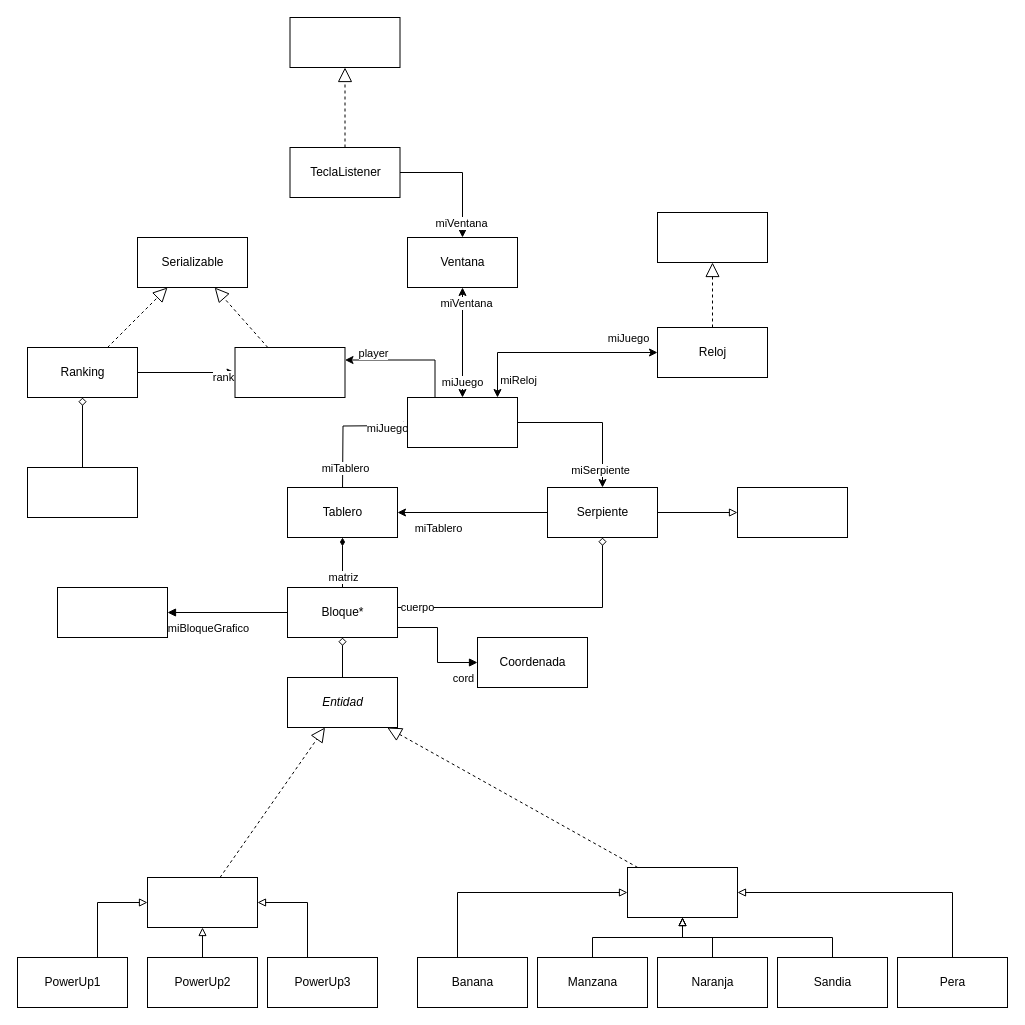
This 1025x1025 diagram has some shape labels left out. The centre of each missing label's shape, as x and y in pixels:
"BloqueGrafico" belongs at (x=112, y=612).
"Comida" belongs at (x=682, y=892).
"Juego" belongs at (x=462, y=422).
"Jugador" belongs at (x=289, y=372).
"KeyListener" belongs at (x=344, y=42).
"manejoArchivo" belongs at (x=82, y=492).
"PowerUp*" belongs at (x=202, y=902).
"Runnable" belongs at (x=712, y=237).
"VisitorEntidad" belongs at (x=792, y=512).
